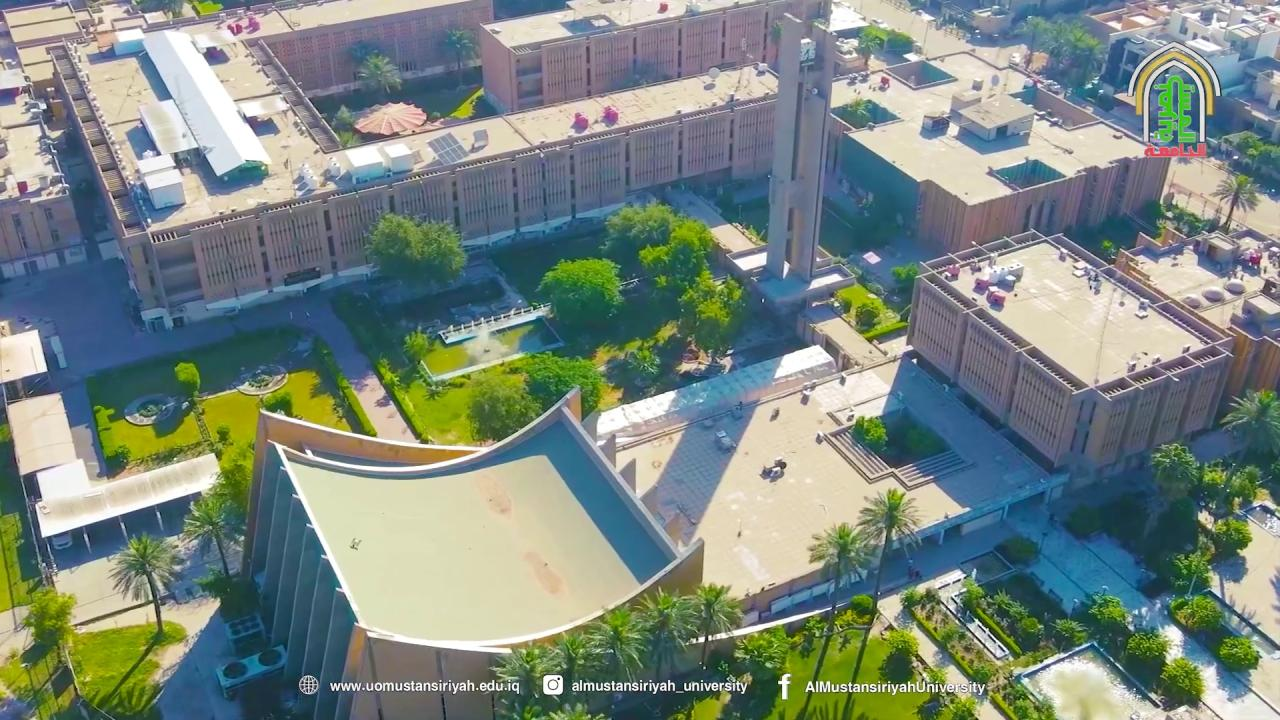fountain: (1011, 640, 1167, 719), (429, 300, 552, 380)
tree: (106, 531, 184, 638), (362, 208, 467, 287), (856, 486, 921, 602), (502, 350, 603, 421), (22, 587, 84, 699), (627, 584, 697, 682), (533, 255, 625, 327), (1022, 11, 1105, 90), (599, 200, 682, 277), (677, 269, 745, 362), (463, 366, 543, 444), (539, 630, 607, 715), (487, 641, 559, 718), (681, 581, 744, 668), (581, 606, 649, 685), (181, 496, 238, 580), (1218, 386, 1279, 459), (806, 520, 867, 591), (174, 361, 218, 452), (192, 566, 261, 623), (638, 240, 706, 296), (207, 438, 255, 515), (1148, 441, 1201, 501), (1210, 171, 1259, 234), (732, 624, 795, 673), (985, 587, 1040, 642), (834, 284, 899, 330), (877, 626, 919, 684), (1169, 593, 1222, 638), (1159, 656, 1205, 706), (357, 50, 402, 97), (1172, 547, 1214, 597), (443, 27, 476, 86), (1209, 516, 1253, 560), (668, 218, 717, 257), (1122, 628, 1171, 666), (1087, 590, 1128, 634), (1225, 463, 1262, 510), (1218, 634, 1260, 672), (343, 39, 380, 82), (850, 413, 888, 453), (1022, 14, 1048, 70), (401, 326, 434, 369), (1063, 502, 1100, 539), (957, 574, 986, 618), (1004, 533, 1040, 567), (880, 627, 919, 658), (92, 404, 115, 456), (856, 25, 885, 66), (1050, 617, 1088, 647), (331, 104, 356, 148), (259, 389, 297, 417), (173, 361, 200, 400), (374, 354, 400, 390), (848, 593, 877, 625), (842, 95, 871, 127), (890, 261, 918, 289), (214, 423, 233, 453), (114, 443, 131, 468), (1100, 238, 1117, 262)
